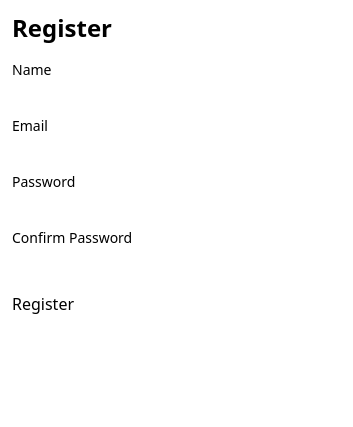
Scenario: Auth forms validation › register shows errors when fields invalid
Click the button "Register". click: (43, 304)
box: [12,292,74,316]
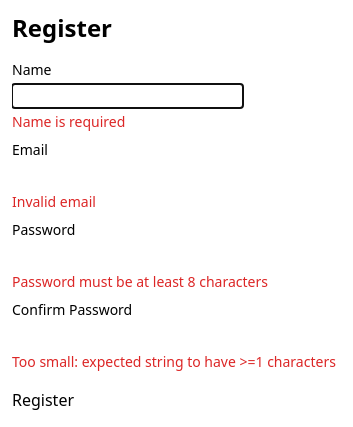
Result: the text "Name is required" is shown at [12,112,125,131]
Result: the text "Invalid email" is shown at [12,192,96,211]
